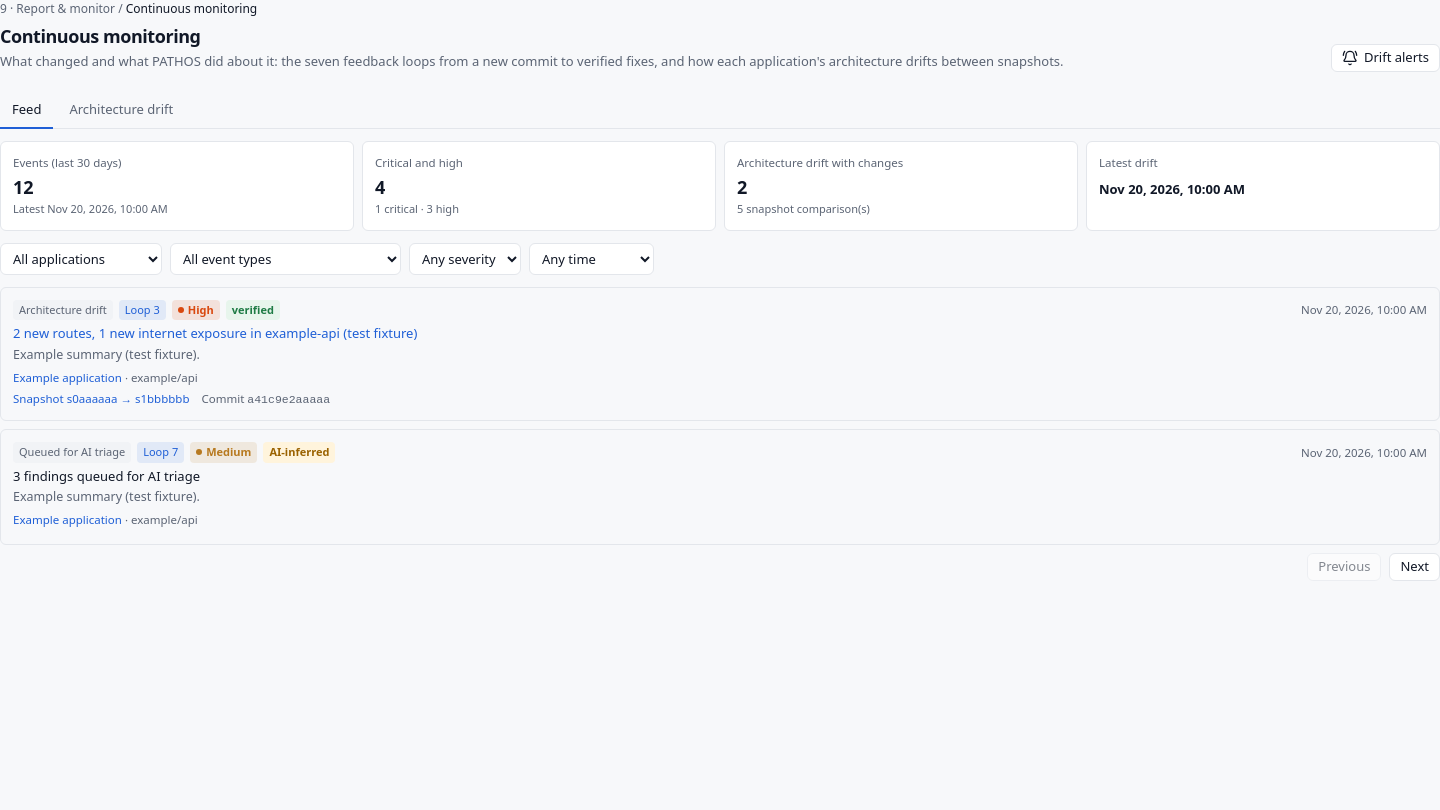
Test: continuous monitoring page › lets settings.manage turn drift alerts on with a minimum severity
The image size is (1440, 810).
Later steps or results of the test are not shown.
Click the button "Drift alerts" at (1386, 58), box [1331, 44, 1439, 72]
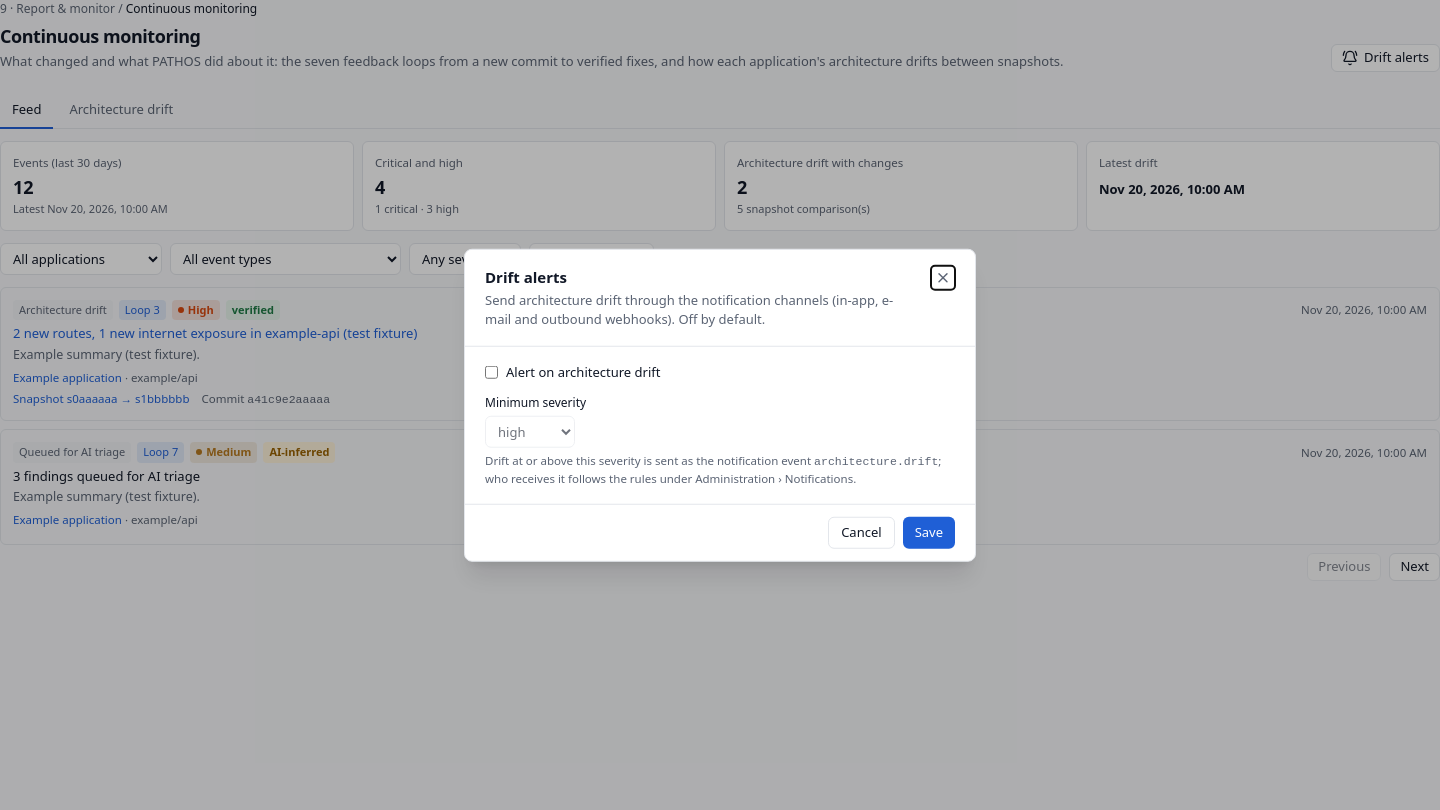
Expected: the checkbox labelled "Alert on architecture drift" is not checked, [485, 366, 498, 378]
